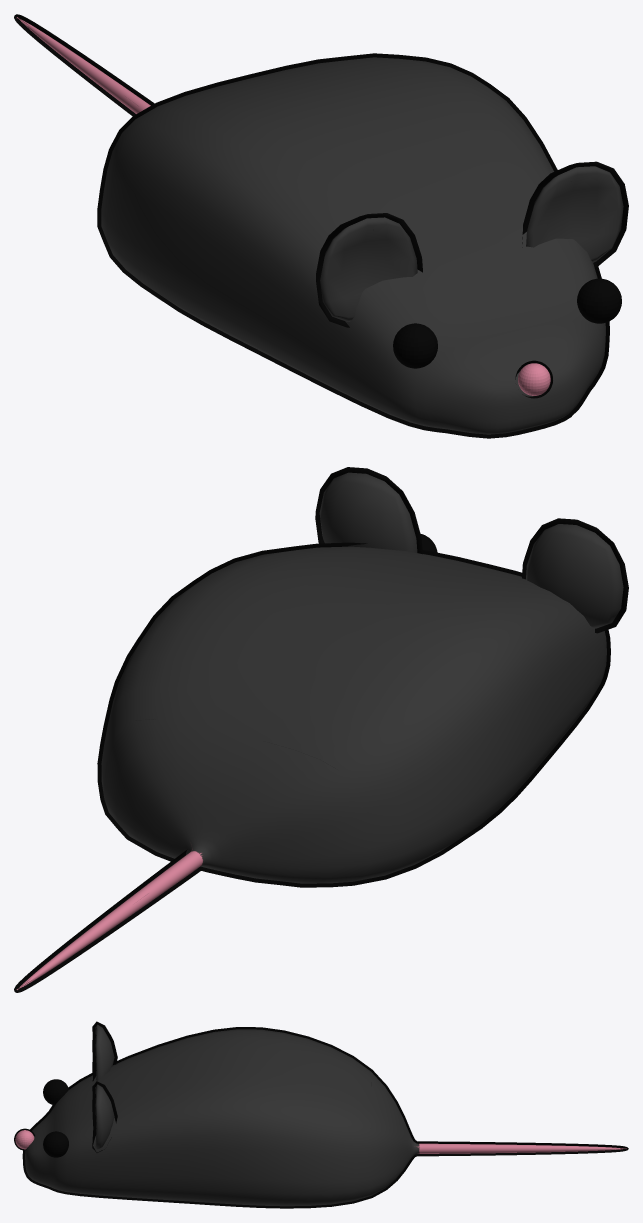
The model's file is RatV1.fbx.
3 views of the same model, one above another, from view 1: azimuth 30°, elevation 25°; view 2: azimuth 150°, elevation 25°; view 3: azimuth 270°, elevation 25° (orthographic). The views are drawn at different scales.
Parts seen in each view (by area): view 1: Rat Toy, Rat Ears, Rat Eyes, Nose; view 2: Rat Toy, Rat Ears; view 3: Rat Toy, Rat Ears, Rat Eyes, Nose.
Part boxes in pixels (x1,y1,x2,y2): Rat Toy: [14, 14, 609, 438]; Rat Ears: [316, 161, 628, 327]; Rat Eyes: [393, 278, 621, 368]; Nose: [515, 360, 552, 398]; Rat Toy: [14, 542, 610, 992]; Rat Ears: [315, 467, 628, 633]; Rat Toy: [22, 1027, 628, 1208]; Rat Ears: [92, 1021, 117, 1152]; Rat Eyes: [43, 1079, 68, 1157]; Nose: [14, 1128, 34, 1150].
Bounding box in the file's own units: 125 × 69.04 × 321.
Materials: 3 (2 with a texture image).
